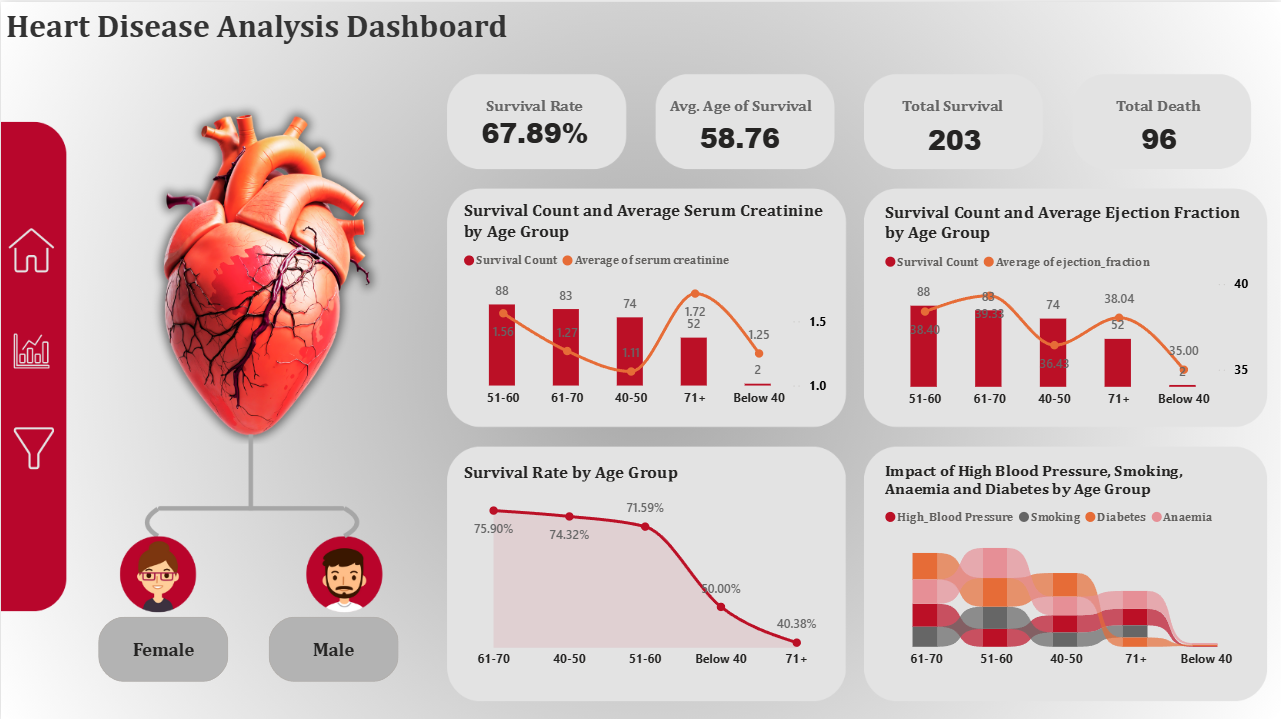

Layout of this report page (visuals, bound fields, positions):
{"tool":"powerbi","page":{"name":"Page 1","canvas":[1280,720],"ordinal":0},"visuals":[{"type":"card","fields":{"Values":["heart_Disease_clinical_records_.Average Age of Survival"]},"box":[687.5,113.9,102.9,46.7],"z":0},{"type":"card","fields":{"Values":["heart_Disease_clinical_records_.Total Death"]},"box":[1122.5,119.4,71.4,35.7],"z":1},{"type":"card","fields":{"Values":["heart_Disease_clinical_records_.Total Survival"]},"box":[909.8,120.8,87.8,34.3],"z":2},{"type":"card","fields":{"Values":["heart_Disease_clinical_records_.Survival Rate"]},"box":[469.3,104.3,130.4,56.3],"z":3},{"type":"textbox","box":[474.8,89.2,116.6,49.4],"z":4},{"type":"textbox","box":[894.7,89.2,116.6,49.4],"z":5},{"type":"textbox","box":[660,89.2,159.2,49.4],"z":6},{"type":"textbox","box":[1099.1,89.2,116.6,49.4],"z":7},{"type":"lineClusteredColumnComboChart","title":"Survival Count and Average Serum Creatinine by Age Group","fields":{"Category":["heart_Disease_clinical_records_.AGE_GROUP"],"Y":["CountNonNull(heart_Disease_clinical_records_.DEATH_EVENT)"],"Y2":["Avg(heart_Disease_clinical_records_.serum_creatinine)"]},"box":[457.5,197.5,373.8,216.2],"z":8},{"type":"lineClusteredColumnComboChart","title":"Survival Count and Average Ejection Fraction by Age Group","fields":{"Category":["heart_Disease_clinical_records_.AGE_GROUP"],"Y":["CountNonNull(heart_Disease_clinical_records_.DEATH_EVENT)"],"Y2":["Avg(heart_Disease_clinical_records_.ejection_fraction)"]},"box":[878.8,198.8,373.8,216.2],"z":9},{"type":"lineChart","title":"Survival Rate by Age Group","fields":{"Category":["heart_Disease_clinical_records_.AGE_GROUP"],"Y":["heart_Disease_clinical_records_.Survival Rate"]},"box":[457.5,458.8,373.8,216.2],"z":10},{"type":"ribbonChart","title":"Impact of High Blood Pressure, Smoking, Anaemia and Diabetes by Age Group","fields":{"Category":["heart_Disease_clinical_records_.AGE_GROUP"],"Y":["Sum(heart_Disease_clinical_records_.high_blood_pressure)","Sum(heart_Disease_clinical_records_.smoking)","Sum(heart_Disease_clinical_records_.diabetes)","Sum(heart_Disease_clinical_records_.anaemia)"]},"box":[878.8,458.8,373.8,216.2],"z":11},{"type":"advancedSlicerVisual","fields":{"Values":["heart_Disease_clinical_records_.Gender"]},"box":[92.5,610,310,75],"z":12},{"type":"textbox","box":[0,0,726.2,150],"z":13}]}

Visuals, with their boxes in screenshot pixels (x1, y1, x2, y2), scaled from the page's 1280x720 canvas onto the 1281x719 screenshot:
card - heart_Disease_clinical_records_.Average Age of Survival: (688,114,791,160)
card - heart_Disease_clinical_records_.Total Death: (1123,119,1195,155)
card - heart_Disease_clinical_records_.Total Survival: (911,121,998,155)
card - heart_Disease_clinical_records_.Survival Rate: (470,104,600,160)
textbox: (475,89,592,138)
textbox: (895,89,1012,138)
textbox: (661,89,820,138)
textbox: (1100,89,1217,138)
"Survival Count and Average Serum Creatinine by Age Group" lineClusteredColumnComboChart: (458,197,832,413)
"Survival Count and Average Ejection Fraction by Age Group" lineClusteredColumnComboChart: (879,199,1254,414)
"Survival Rate by Age Group" lineChart: (458,458,832,674)
"Impact of High Blood Pressure, Smoking, Anaemia and Diabetes by Age Group" ribbonChart: (879,458,1254,674)
advancedSlicerVisual - heart_Disease_clinical_records_.Gender: (93,609,403,684)
textbox: (0,0,727,150)
